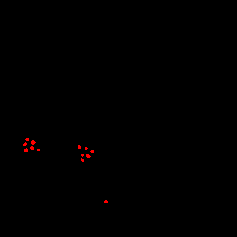Target: (31, 140, 36, 145), (86, 154, 91, 158), (23, 142, 27, 146), (30, 146, 34, 150), (24, 148, 28, 152), (25, 138, 29, 141), (78, 145, 81, 149), (90, 150, 94, 153), (81, 158, 84, 162), (104, 200, 108, 203), (85, 147, 88, 150), (81, 154, 84, 157), (37, 149, 40, 151)
